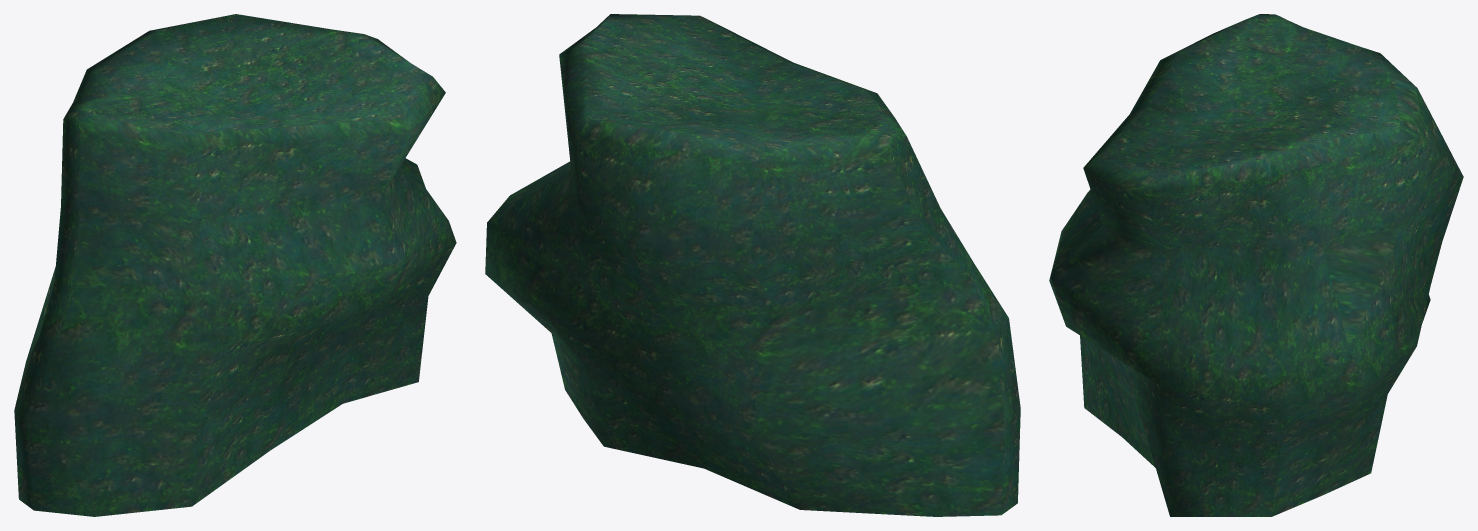
Rendered from MIRKWOOD_MIRK_PLAYSURFACE13.fbx.
The picture shows the model from 3 angles, left to right: view 1: azimuth 30°, elevation 25°; view 2: azimuth 150°, elevation 25°; view 3: azimuth 270°, elevation 25°; orthographic projection. The views are drawn at different scales.
Parts seen in each view (by area): view 1: MIRKWOOD_MIRK_PLAYSURFACE13; view 2: MIRKWOOD_MIRK_PLAYSURFACE13; view 3: MIRKWOOD_MIRK_PLAYSURFACE13.
Boxes of the visible parts, box(x1,y1,x2,y2) form: MIRKWOOD_MIRK_PLAYSURFACE13: box(14, 14, 456, 516); MIRKWOOD_MIRK_PLAYSURFACE13: box(485, 14, 1020, 516); MIRKWOOD_MIRK_PLAYSURFACE13: box(1049, 14, 1463, 516).
Size of the model in its own units: 83715 by 65005 by 61191.
1 material, 1 textured.
